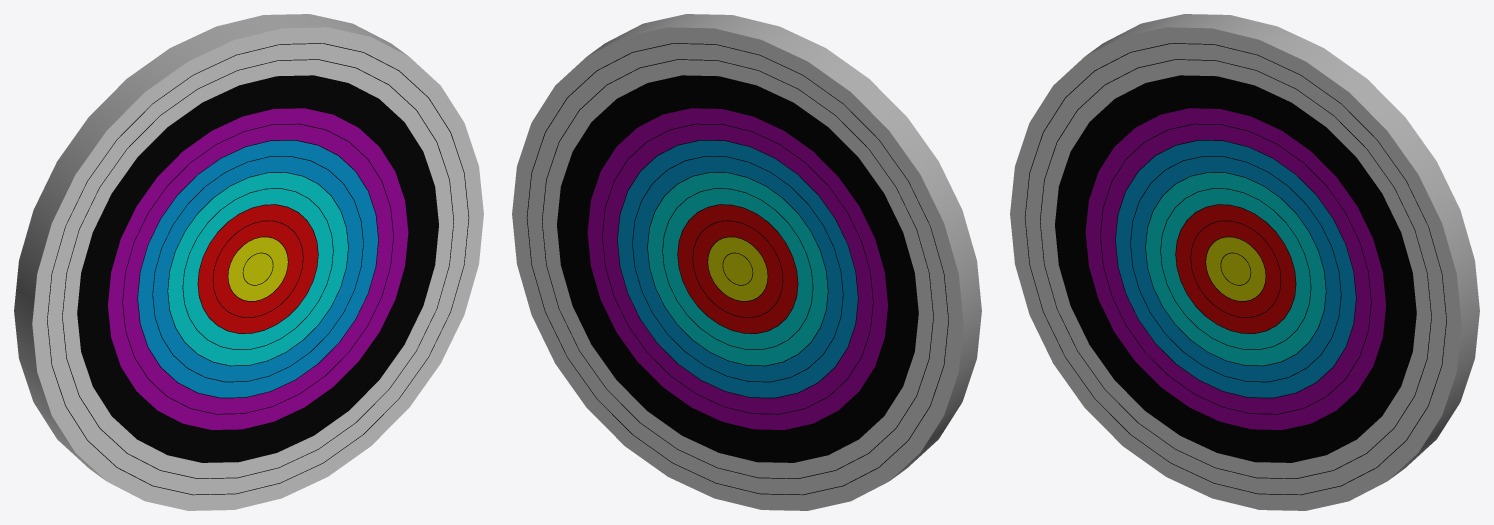
File: Extreme_Board.fbx
3 views of the same model, side by side, from view 1: azimuth 30°, elevation 25°; view 2: azimuth 150°, elevation 25°; view 3: azimuth 330°, elevation 25° (orthographic).
Visible parts, largest first — view 1: Outer_Ring3, Outer_Ring2, Outer_Ring1, Black_Ring2, Black_Ring1, Purple_Ring2, Purple_Ring1, Blue_Ring2, Blue_Ring1, Cyan_Ring2, Cyan_Ring1, Red_Ring2 (+3 smaller); view 2: Outer_Ring3, Outer_Ring2, Outer_Ring1, Black_Ring2, Black_Ring1, Purple_Ring2, Purple_Ring1, Blue_Ring2, Blue_Ring1, Cyan_Ring2, Cyan_Ring1, Red_Ring2 (+3 smaller); view 3: Outer_Ring3, Outer_Ring2, Outer_Ring1, Black_Ring2, Black_Ring1, Purple_Ring2, Purple_Ring1, Blue_Ring2, Blue_Ring1, Cyan_Ring2, Cyan_Ring1, Red_Ring2 (+3 smaller).
Part boxes in pixels (x1,y1,x2,y2): Outer_Ring3: (14, 14, 483, 510); Outer_Ring2: (47, 43, 468, 494); Outer_Ring1: (62, 59, 453, 478); Black_Ring2: (77, 75, 438, 462); Black_Ring1: (92, 92, 423, 446); Purple_Ring2: (107, 108, 408, 430); Purple_Ring1: (122, 124, 393, 414); Blue_Ring2: (137, 140, 378, 397); Blue_Ring1: (152, 156, 363, 381); Cyan_Ring2: (167, 172, 348, 365); Cyan_Ring1: (183, 188, 333, 349); Red_Ring2: (198, 204, 318, 333); Outer_Ring3: (512, 14, 981, 510); Outer_Ring2: (527, 43, 948, 494); Outer_Ring1: (542, 59, 933, 478); Black_Ring2: (557, 75, 918, 462); Black_Ring1: (572, 92, 903, 446); Purple_Ring2: (587, 108, 888, 430); Purple_Ring1: (602, 124, 873, 414); Blue_Ring2: (617, 140, 858, 397); Blue_Ring1: (632, 156, 843, 381); Cyan_Ring2: (647, 172, 828, 365); Cyan_Ring1: (662, 188, 812, 349); Red_Ring2: (677, 204, 797, 333); Outer_Ring3: (1010, 14, 1479, 510); Outer_Ring2: (1025, 43, 1446, 494); Outer_Ring1: (1040, 59, 1431, 478); Black_Ring2: (1055, 75, 1416, 462); Black_Ring1: (1070, 92, 1401, 446); Purple_Ring2: (1085, 108, 1386, 430); Purple_Ring1: (1100, 124, 1371, 414); Blue_Ring2: (1115, 140, 1356, 397); Blue_Ring1: (1130, 156, 1341, 381); Cyan_Ring2: (1145, 172, 1326, 365); Cyan_Ring1: (1160, 188, 1310, 349); Red_Ring2: (1175, 204, 1295, 333).
Size of the model in its own units: 0.9335 by 0.9283 by 0.0653.
